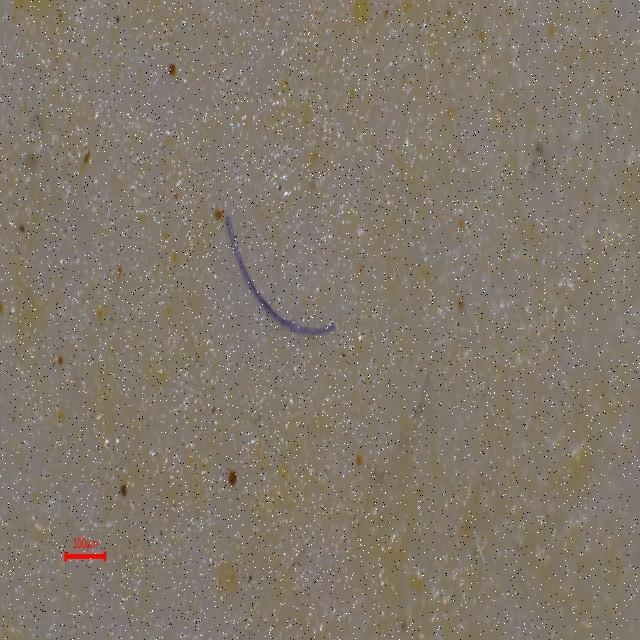fibers: (200, 214, 337, 354)
